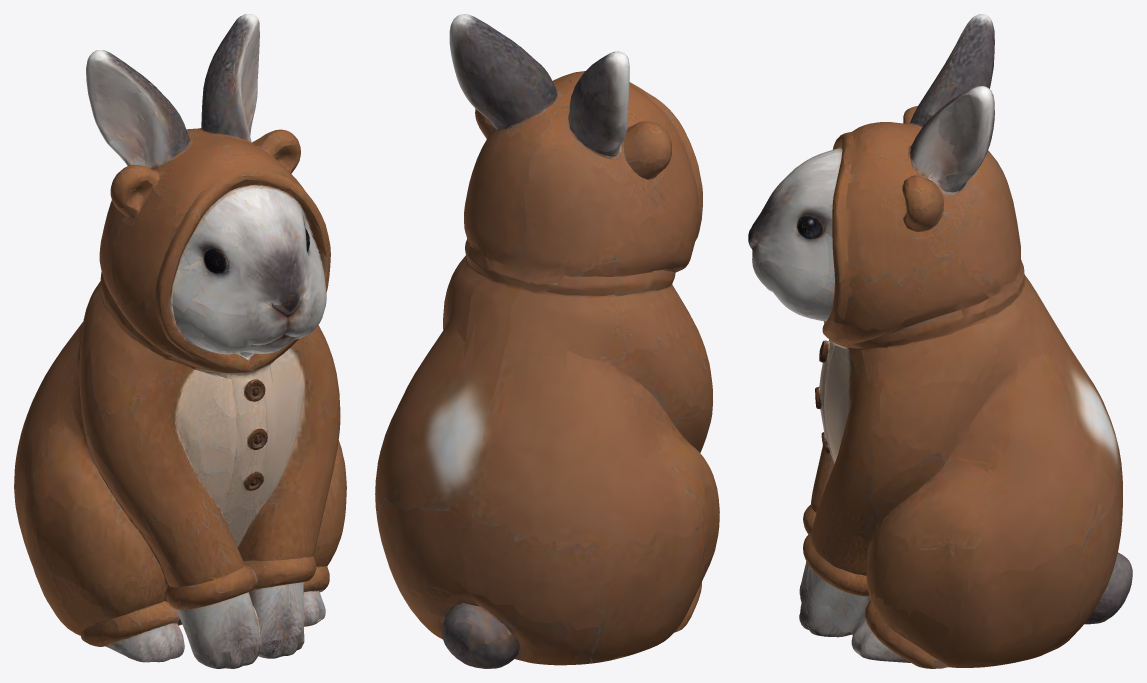
The model's file is villager_4_lite.glb.
3 views of the same model, side by side, from view 1: azimuth 30°, elevation 25°; view 2: azimuth 150°, elevation 25°; view 3: azimuth 270°, elevation 25° (orthographic). The views are drawn at different scales.
Parts seen in each view (by area): view 1: Mesh_0; view 2: Mesh_0; view 3: Mesh_0.
Boxes of the visible parts, <box> form: Mesh_0: <box>14,14,346,668</box>; Mesh_0: <box>375,14,719,668</box>; Mesh_0: <box>748,14,1132,668</box>.
Size of the model in its own units: 1.05 by 1.9 by 1.18.
Materials: 1 (1 with a texture image).
